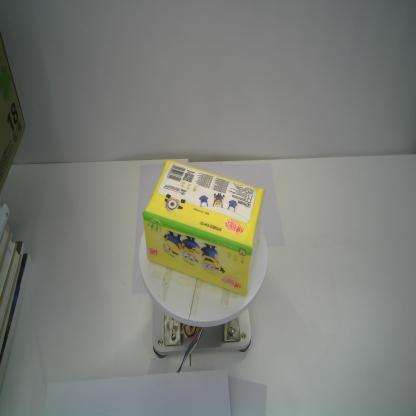Tissue: (141, 157, 267, 297)
